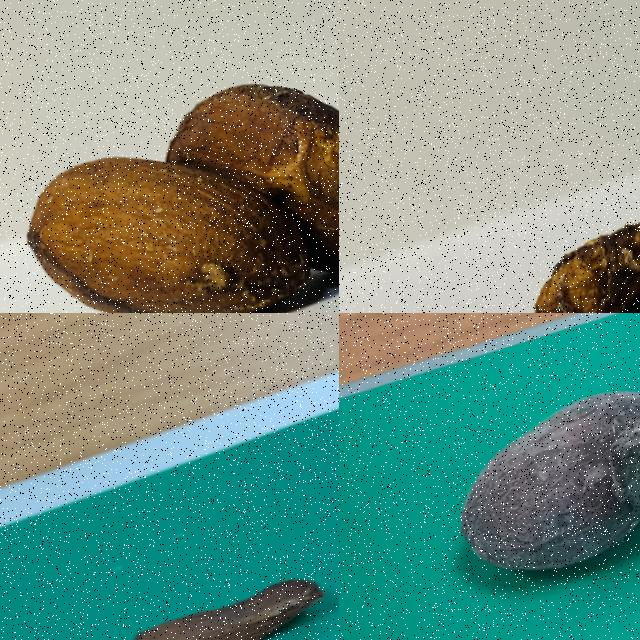Agglomerated_cocoabeans: (0, 11, 338, 312), (349, 313, 639, 639)
Flat_cocoabeans: (430, 97, 639, 312), (59, 522, 338, 639)
